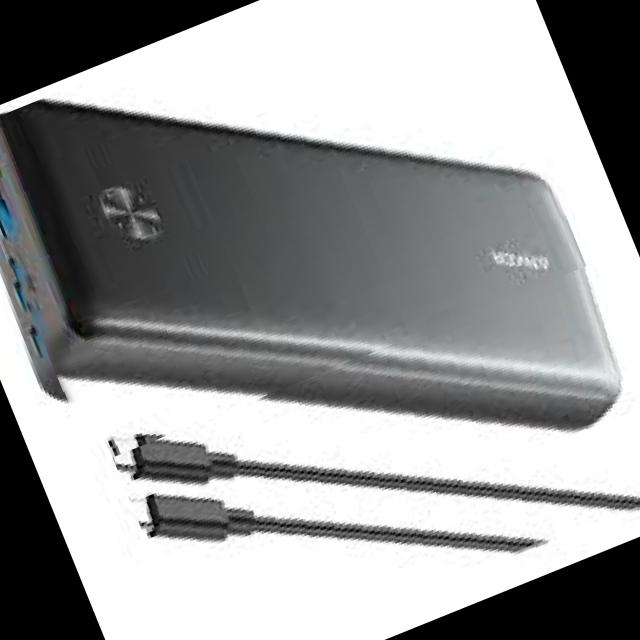Hazard: (0, 105, 631, 424), (111, 435, 640, 565)
